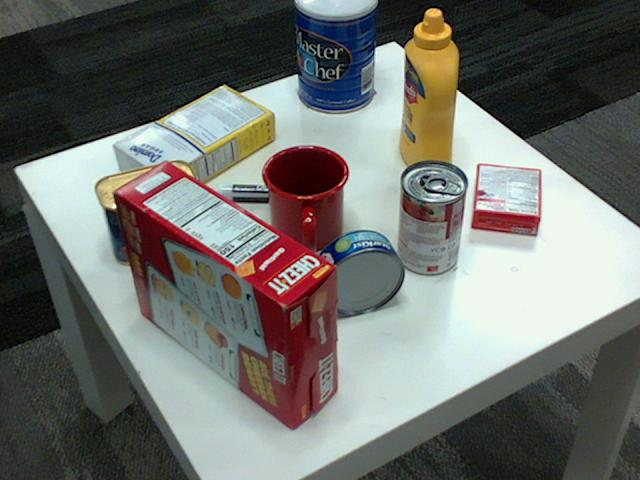cracker_box: (111, 160, 338, 426)
gelatin_box: (473, 163, 542, 233)
large_marker: (215, 186, 321, 202)
master_chef_can: (293, 0, 375, 112)
mug: (262, 141, 351, 250)
mustard_bottle: (399, 9, 457, 176)
potted_meat_can: (95, 159, 202, 265)
sugar_box: (114, 83, 276, 200)
tomato_soup_can: (397, 159, 467, 274)
tuna_fish_can: (315, 229, 405, 313)
